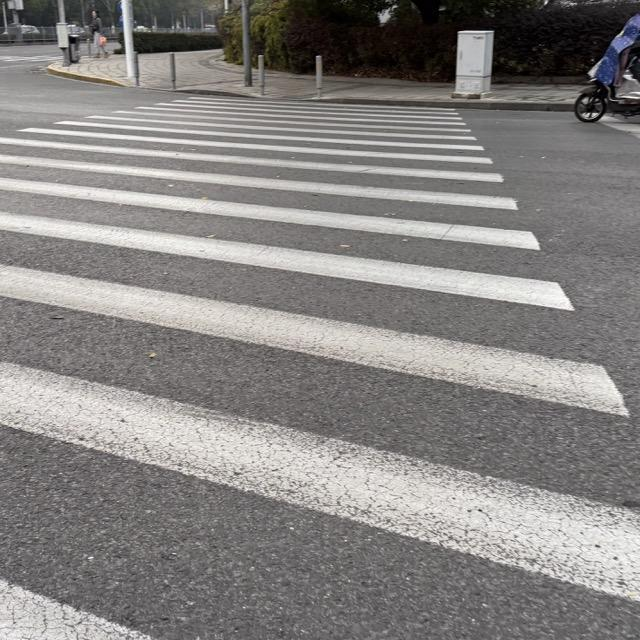curb: (167, 90, 572, 112), (48, 68, 126, 88)
